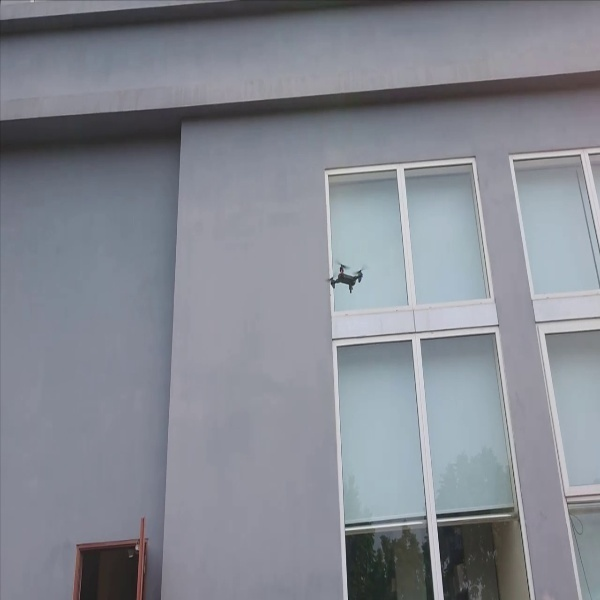drone: (324, 256, 371, 293)
